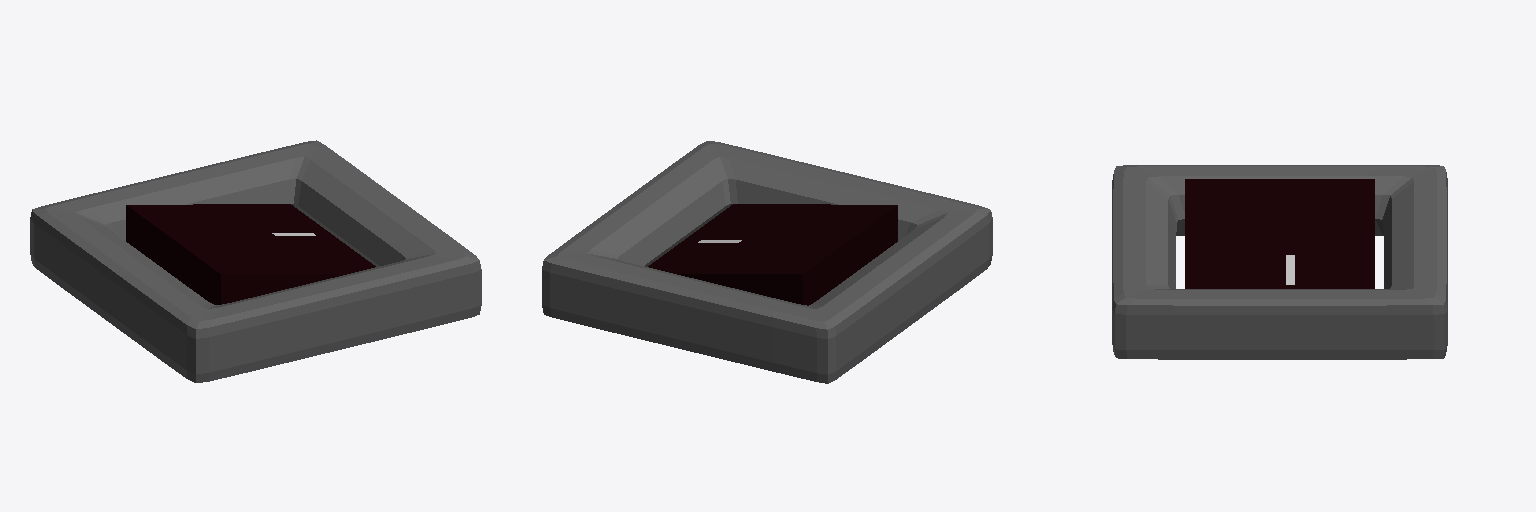
3 renders of one model, left to right at view 1: azimuth 30°, elevation 25°; view 2: azimuth 150°, elevation 25°; view 3: azimuth 270°, elevation 25°, orthographic.
Visible parts, largest first — view 1: transformer.001, Cube.001; view 2: transformer.001, Cube.001; view 3: transformer.001, Cube.001.
Boxes of the visible parts, x1,y1,x2,y2 form: transformer.001: [30, 140, 481, 382]; Cube.001: [126, 204, 375, 304]; transformer.001: [542, 141, 992, 383]; Cube.001: [648, 204, 897, 305]; transformer.001: [1112, 165, 1447, 359]; Cube.001: [1185, 179, 1374, 288].
Bounding box in the file's own units: 3 × 0.7204 × 3.